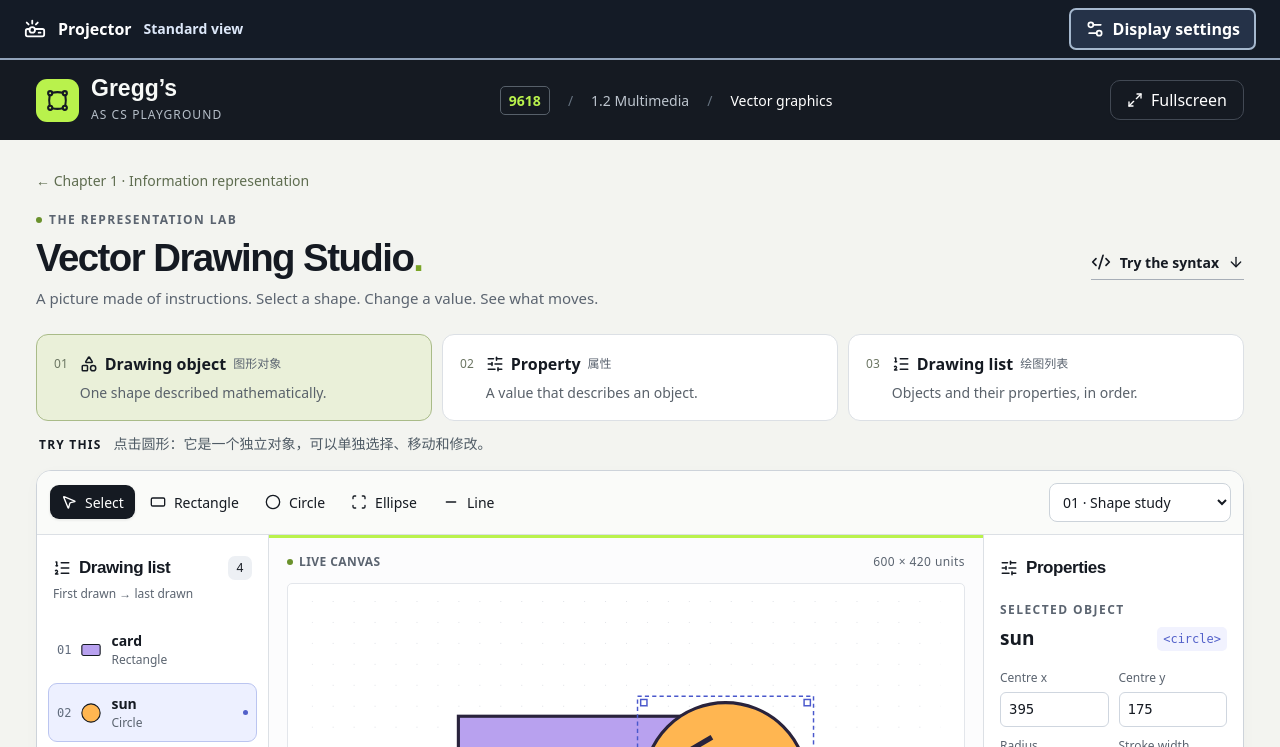
Test: AS chapter catalogue › loads and reloads a demo at the GitHub Pages project path using hash routing
Click the link "← Chapter 1 · Information representation".
click(173, 181)  # box x1=36 y1=170 x2=309 y2=191
(page scrolled)
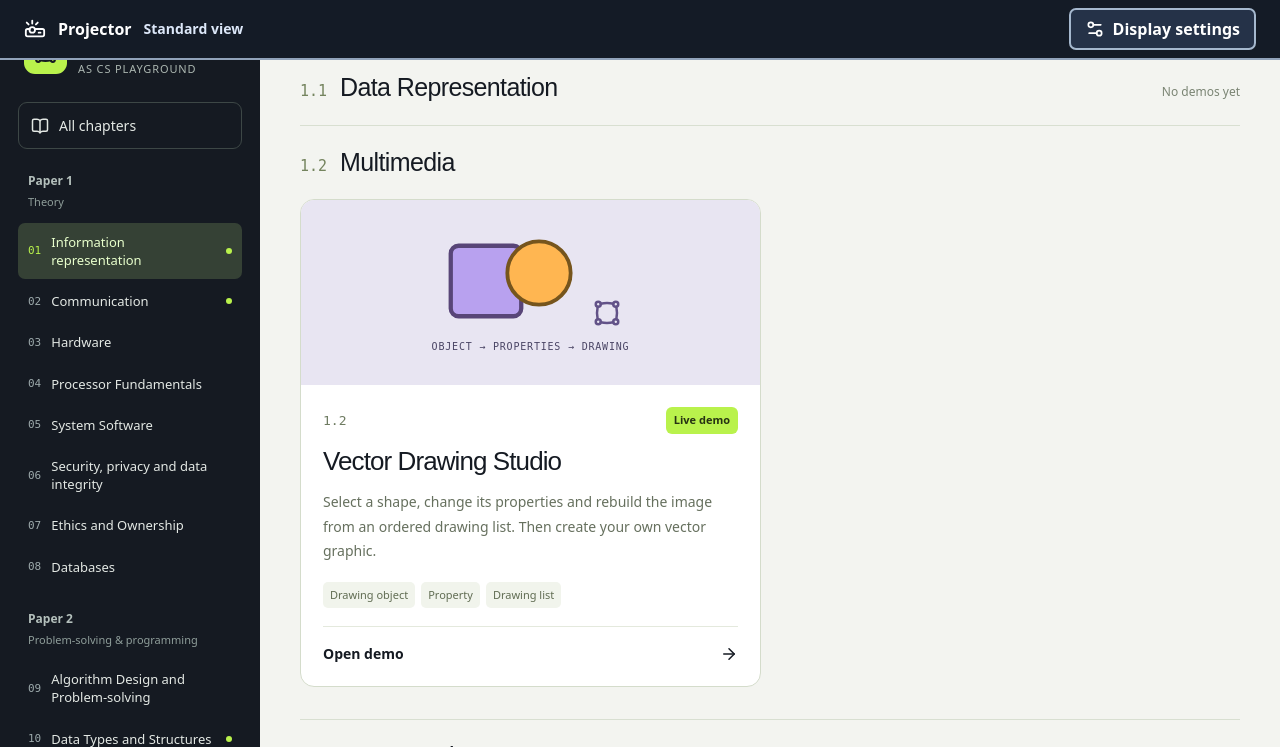
expect the element "Multimedia" is shown: met, box x1=300 y1=125 x2=1240 y2=719
